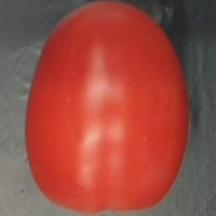unripe: (22, 0, 194, 216)
